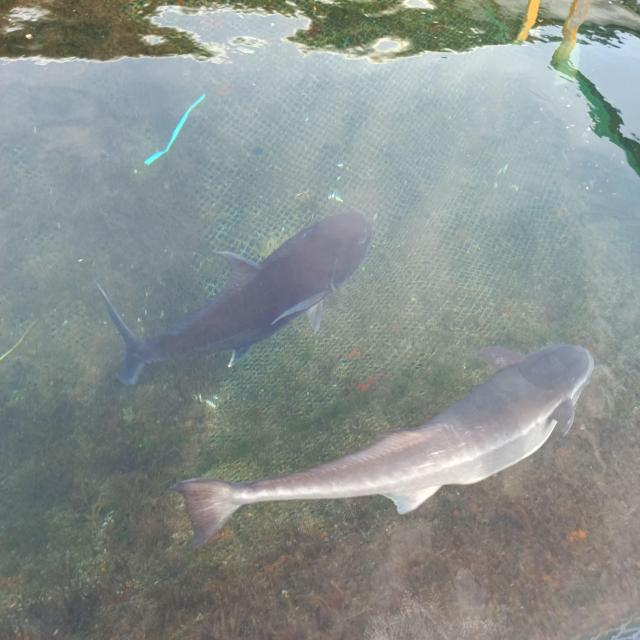ikan: (170, 327, 600, 568), (90, 174, 392, 391)
